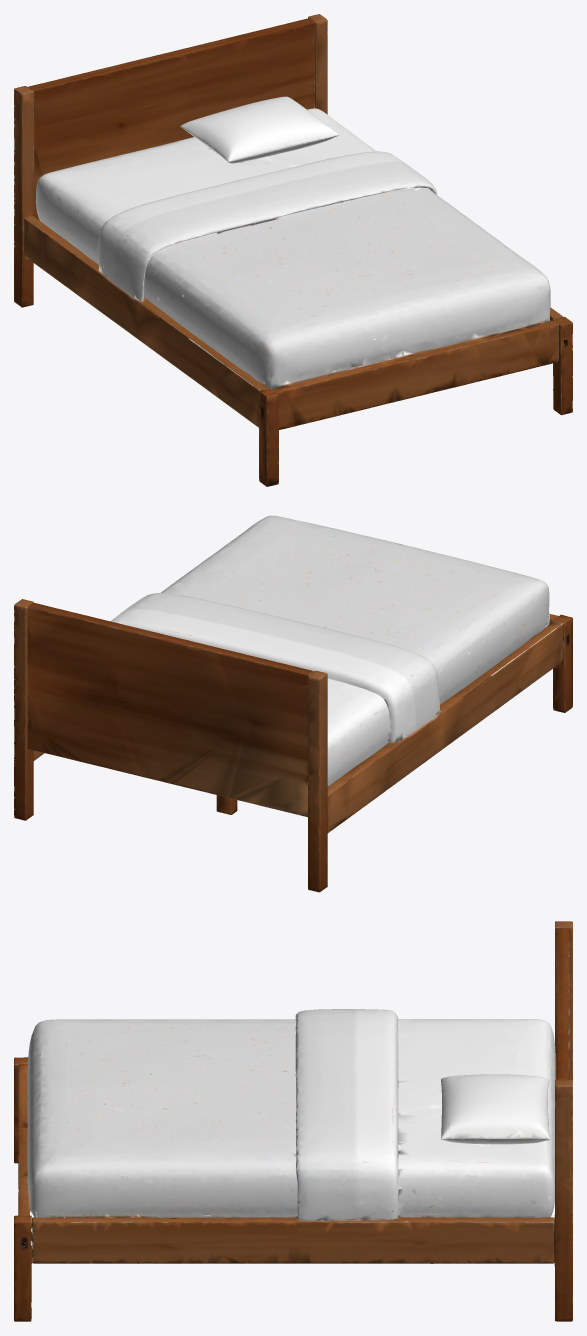
Rendered from single_bed.glb.
The picture shows the model from 3 angles, top to bottom: view 1: azimuth 30°, elevation 25°; view 2: azimuth 150°, elevation 25°; view 3: azimuth 270°, elevation 25°; orthographic projection. The views are drawn at different scales.
Parts seen in each view (by area): view 1: geometry_0; view 2: geometry_0; view 3: geometry_0.
Boxes of the visible parts, x1,y1,x2,y2 form: geometry_0: [14, 14, 572, 486]; geometry_0: [14, 515, 572, 892]; geometry_0: [14, 921, 572, 1321].
Size of the model in its own units: 1.4 by 0.9322 by 2.
1 material, 1 textured.
